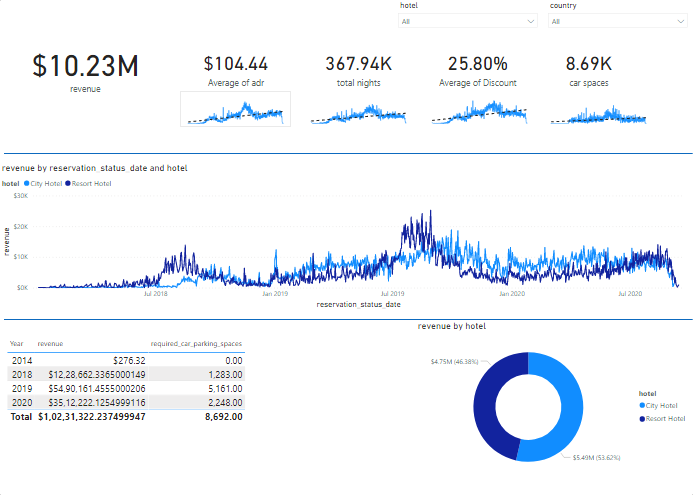

Layout of this report page (visuals, bound fields, positions):
{"tool":"powerbi","page":{"name":"Page 1","canvas":[1280,920],"ordinal":0},"visuals":[{"type":"shape","box":[9.2,258.1,1270.3,57.2],"z":0},{"type":"card","fields":{"Values":["Sum(Query1.revenue)"]},"box":[0,65.6,318,122.9],"z":1000},{"type":"card","fields":{"Values":["Avg(Query1.adr)"]},"box":[318,65.6,239.3,122.9],"z":2000},{"type":"card","fields":{"Values":["Query1.total nights"]},"box":[544.1,65.6,237.6,122.9],"z":3000},{"type":"card","fields":{"Values":["Avg(Query1.Discount)"]},"box":[763.7,65.6,239.3,122.9],"z":4000},{"type":"lineChart","fields":{"Y":["Sum(Query1.revenue)"],"Category":["Query1.reservation_status_date"],"Series":["Query1.hotel"]},"box":[0,302.4,1279.5,274.7],"z":5000},{"type":"shape","box":[9.2,564.2,1270.3,57.2],"z":6000},{"type":"slicer","fields":{"Values":["Query1.country"]},"box":[1003,0,277,65.6],"z":7000},{"type":"slicer","fields":{"Values":["Query1.hotel"]},"box":[726,0,277,65.6],"z":7001},{"type":"card","fields":{"Values":["Sum(Query1.required_car_parking_spaces)"]},"box":[968.6,65.6,239.3,122.9],"z":7002},{"type":"lineChart","fields":{"Y":["Sum(Query1.adr)"],"Category":["Query1.reservation_status_date"]},"box":[334.3,172.1,204.9,65.6],"z":7003},{"type":"lineChart","fields":{"Y":["Query1.total nights"],"Category":["Query1.reservation_status_date"]},"box":[560.5,172.1,204.9,65.6],"z":7004},{"type":"lineChart","fields":{"Y":["Sum(Query1.Discount)"],"Category":["Query1.reservation_status_date"]},"box":[783.4,172.1,204.9,65.6],"z":7005},{"type":"lineChart","fields":{"Y":["Sum(Query1.required_car_parking_spaces)"],"Category":["Query1.reservation_status_date"]},"box":[1003,172.1,204.9,65.6],"z":7006},{"type":"donutChart","fields":{"Category":["Query1.hotel"],"Y":["Sum(Query1.revenue)"]},"box":[767,593.7,512.5,302.4],"z":7007},{"type":"tableEx","fields":{"Values":["Query1.reservation_status_date.Variation.Date Hierarchy.Year","Sum(Query1.revenue)","Sum(Query1.required_car_parking_spaces)","Sum(Query1.Column)","Query1.total nights"]},"box":[9.2,621.3,636.1,250.7],"z":7008}]}

Visuals, with their boxes in screenshot pixels (x1, y1, x2, y2), scaled from the page's 1280x920 canvas onto the 693x495 screenshot:
shape: 5 139 692 170
card - Sum(Query1.revenue): 0 35 172 101
card - Avg(Query1.adr): 172 35 302 101
card - Query1.total nights: 295 35 423 101
card - Avg(Query1.Discount): 413 35 543 101
lineChart - Sum(Query1.revenue) x Query1.reservation_status_date: 0 163 692 311
shape: 5 304 692 334
slicer - Query1.country: 543 0 692 35
slicer - Query1.hotel: 393 0 543 35
card - Sum(Query1.required_car_parking_spaces): 524 35 654 101
lineChart - Sum(Query1.adr) x Query1.reservation_status_date: 181 93 292 128
lineChart - Query1.total nights x Query1.reservation_status_date: 303 93 414 128
lineChart - Sum(Query1.Discount) x Query1.reservation_status_date: 424 93 535 128
lineChart - Sum(Query1.required_car_parking_spaces) x Query1.reservation_status_date: 543 93 654 128
donutChart - Query1.hotel x Sum(Query1.revenue): 415 319 692 482
tableEx - Query1.reservation_status_date.Variation.Date Hierarchy.Year x Sum(Query1.revenue): 5 334 349 469
